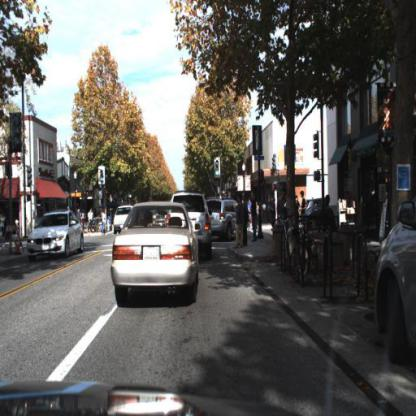car: (111, 201, 202, 308), (373, 188, 416, 370), (170, 190, 214, 264), (25, 208, 84, 260), (207, 197, 247, 243), (112, 205, 134, 238)
pedestrian: (248, 193, 260, 246), (233, 197, 245, 249), (318, 194, 336, 226), (243, 190, 251, 254), (269, 194, 279, 235), (276, 190, 287, 222), (101, 208, 109, 238), (301, 191, 310, 216), (88, 206, 96, 234)
trafficLight-Green: (214, 158, 222, 182), (97, 166, 105, 187)
